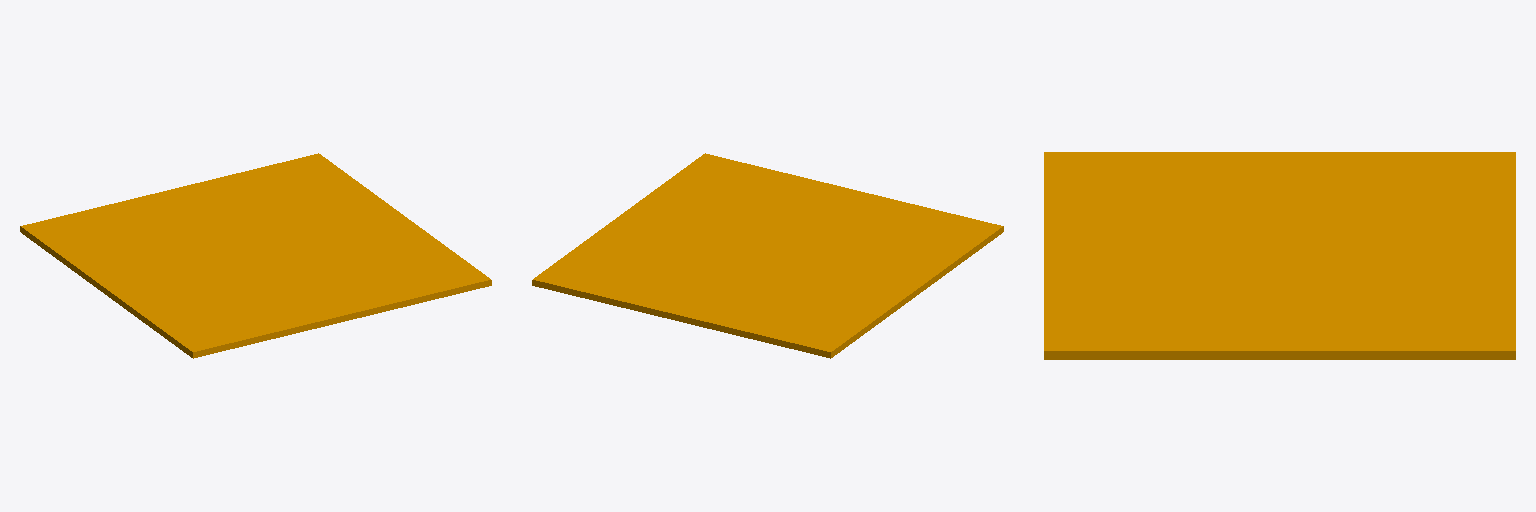
The robot description file, URDF, robot "aruco_map":
<robot name="aruco_map">

	<!-- * * * Link Definitions * * * -->

    <link name="simple_box_base_link">
 	    <inertial>
            <origin xyz="0 0 0" rpy="0 0 0"/>
            <mass value="1.0" />
            <inertia ixx="0.0741666666667" ixy="0.0" ixz="0.0" iyy="0.0585416666667" iyz="0.0" izz="0.0260416666667"/>
        </inertial>
        <collision>
            <origin xyz="0 0 0" rpy="0 0 0"/>
            <geometry>
                <box size="0.2 0.2 0.2"/>
            </geometry>
        </collision>
        <visual>
            <origin rpy="0.0 0 0" xyz="0 0 0"/>
            <geometry>
                <!--<box size="0.8 0.8 0.2"/>-->
                <mesh filename="package://my_robot/meshes/aruco_map.dae"/>
            </geometry>
        </visual>
    </link>
    
    <gazebo reference="simple_box_base_link">
        <kp>100000.0</kp>
        <kd>100000.0</kd>
        <mu1>0.1</mu1>
        <mu2>0.1</mu2>
        <fdir1>1 0 0</fdir1>
    </gazebo>

</robot>

--- Render facts (derived) ---
3 views of the same robot in one strip: view 1: azimuth 30°, elevation 25°; view 2: azimuth 150°, elevation 25°; view 3: azimuth 270°, elevation 25° (orthographic).
Model aruco_map with 1 links and 0 joints (none), rooted at simple_box_base_link, posed all joints at 0.
Links seen in each view (by area): view 1: simple_box_base_link; view 2: simple_box_base_link; view 3: simple_box_base_link.
Link boxes in pixels (left/top/right/bottom): simple_box_base_link: left=20, top=153, right=491, bottom=358; simple_box_base_link: left=532, top=153, right=1003, bottom=358; simple_box_base_link: left=1044, top=152, right=1515, bottom=359.
Size in the robot's own frame: 10 by 10 by 0.2 metres.
1 mesh visuals loaded from 1 distinct referenced files (1 Collada DAE).